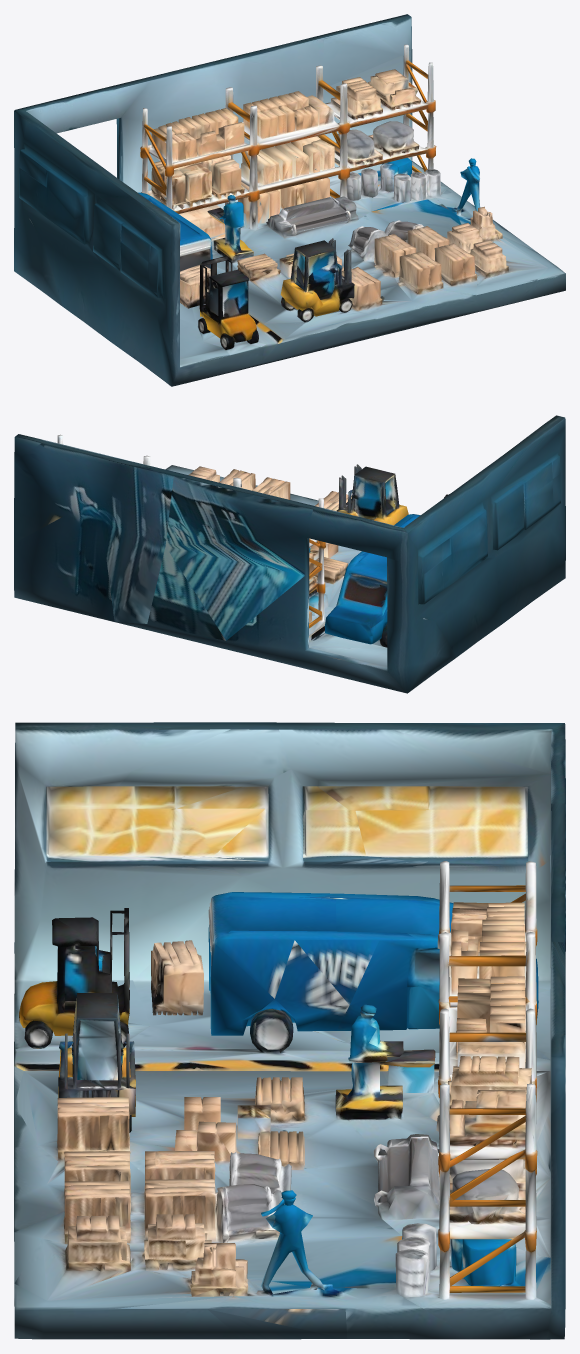
Rendered from cedis.glb.
The picture shows the model from 3 angles, top to bottom: view 1: azimuth 30°, elevation 25°; view 2: azimuth 150°, elevation 25°; view 3: azimuth 270°, elevation 25°; orthographic projection. The views are drawn at different scales.
Visible parts, largest first — view 1: centro_distribucion; view 2: centro_distribucion; view 3: centro_distribucion.
Boxes of the visible parts, x1,y1,x2,y2 form: centro_distribucion: (14,14,565,386); centro_distribucion: (14,415,565,693); centro_distribucion: (14,722,565,1339).
Size of the model in its own units: 60 by 23.13 by 41.03.
Materials: 1 (1 with a texture image).
